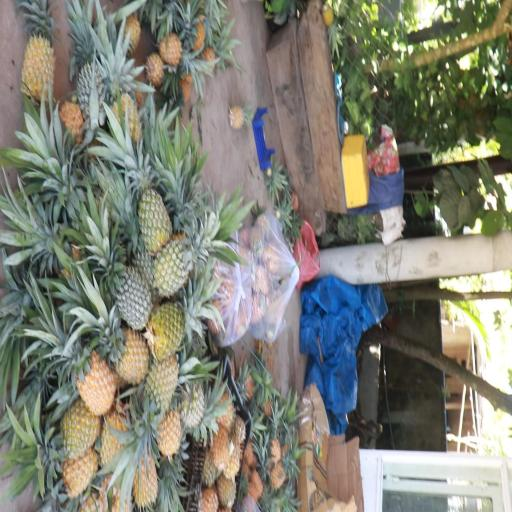------------------------------: (146, 294, 208, 356), (154, 232, 210, 296), (130, 170, 171, 250)
Pineapple - v8 v1: (50, 324, 115, 414), (17, 3, 56, 108), (38, 400, 100, 464), (140, 352, 178, 434), (106, 319, 152, 382), (46, 450, 102, 501), (125, 436, 160, 512)
